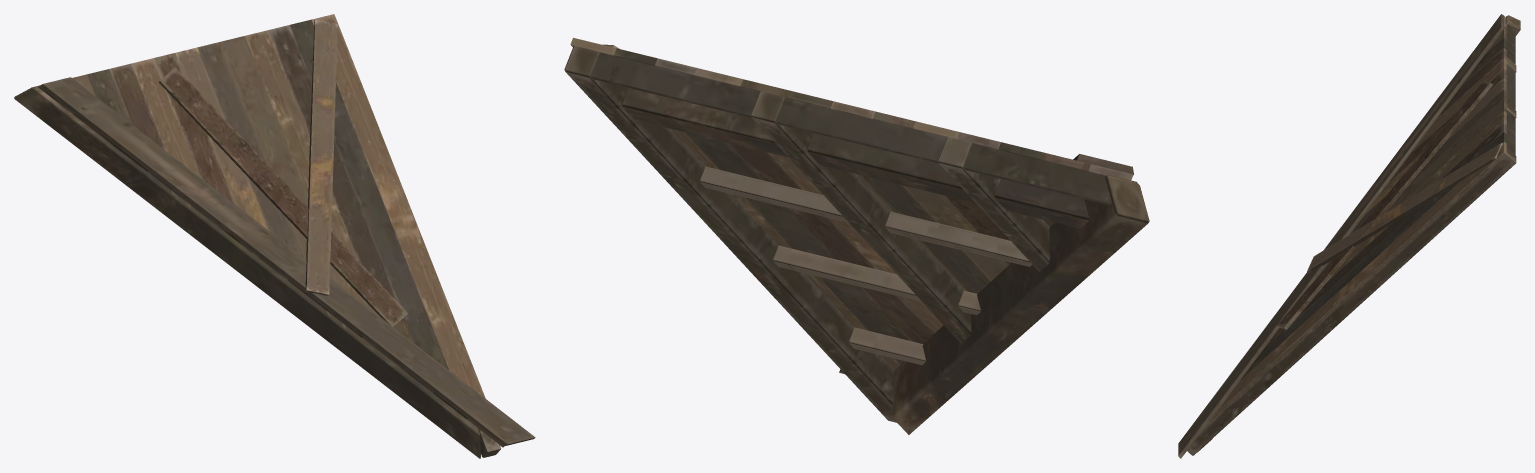
The model's file is roof.frontier.corner.90.concave.l.glb.
3 views of the same model, side by side, from view 1: azimuth 30°, elevation 25°; view 2: azimuth 150°, elevation 25°; view 3: azimuth 270°, elevation 25° (orthographic). The views are drawn at different scales.
Visible parts, largest first — view 1: roof.corner.90.concave.L_LOD0; view 2: roof.corner.90.concave.L_LOD0; view 3: roof.corner.90.concave.L_LOD0.
Boxes of the visible parts, box(x1,y1,x2,y2) form: roof.corner.90.concave.L_LOD0: box(14, 14, 535, 458); roof.corner.90.concave.L_LOD0: box(564, 37, 1149, 434); roof.corner.90.concave.L_LOD0: box(1178, 14, 1520, 458).
Size of the model in its own units: 3.48 by 3.18 by 3.18.
1 material, 1 textured.
